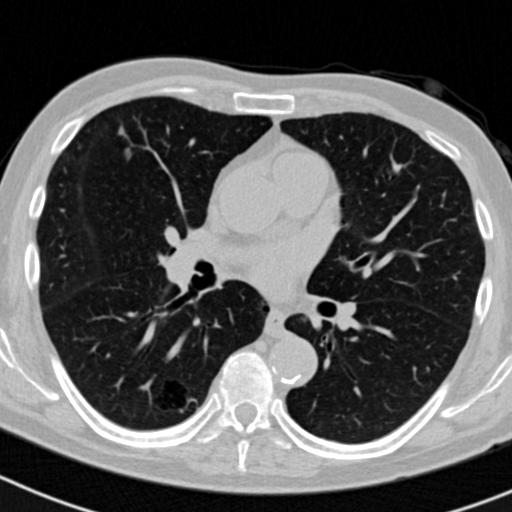nodule: (115, 125, 127, 137)
